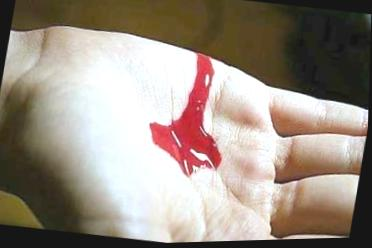Fire: (151, 56, 224, 178)
